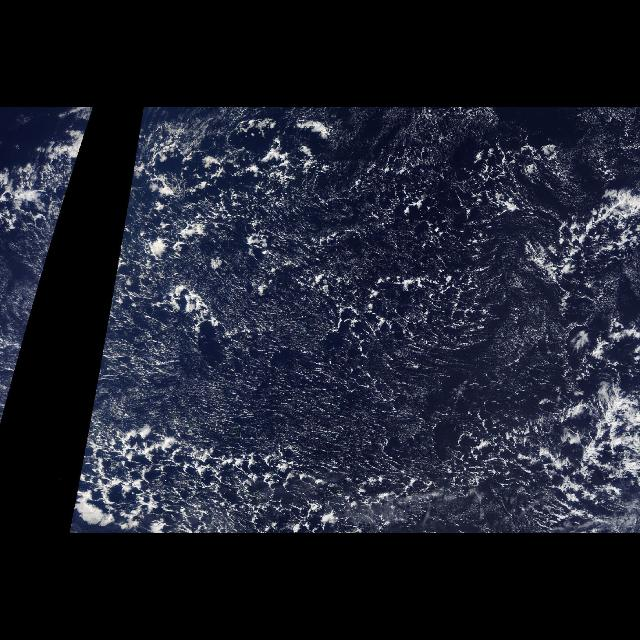Gravel: (67, 109, 638, 533), (2, 108, 94, 422)
